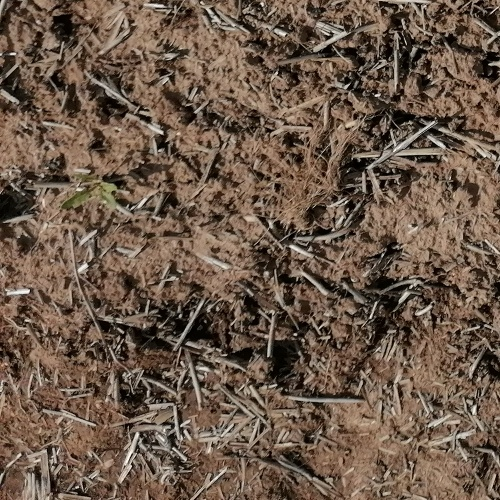beet: (67, 182, 120, 212)
